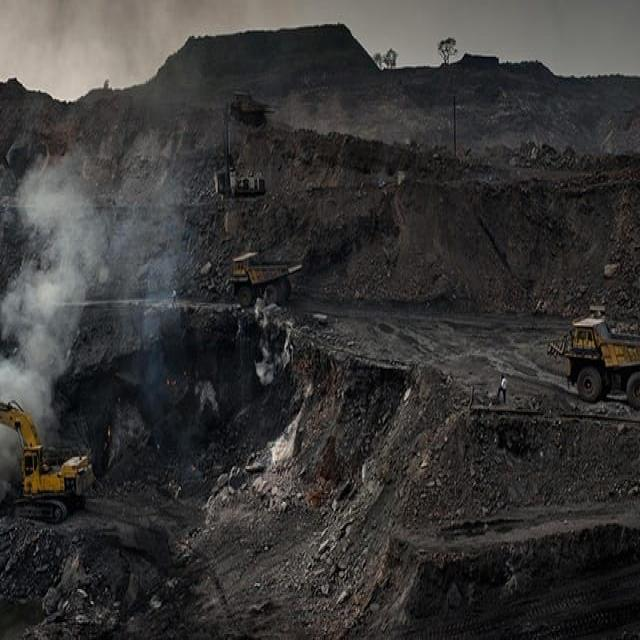dump_truck: (565, 306, 640, 416), (235, 249, 303, 316)
excavator: (0, 390, 99, 533)
